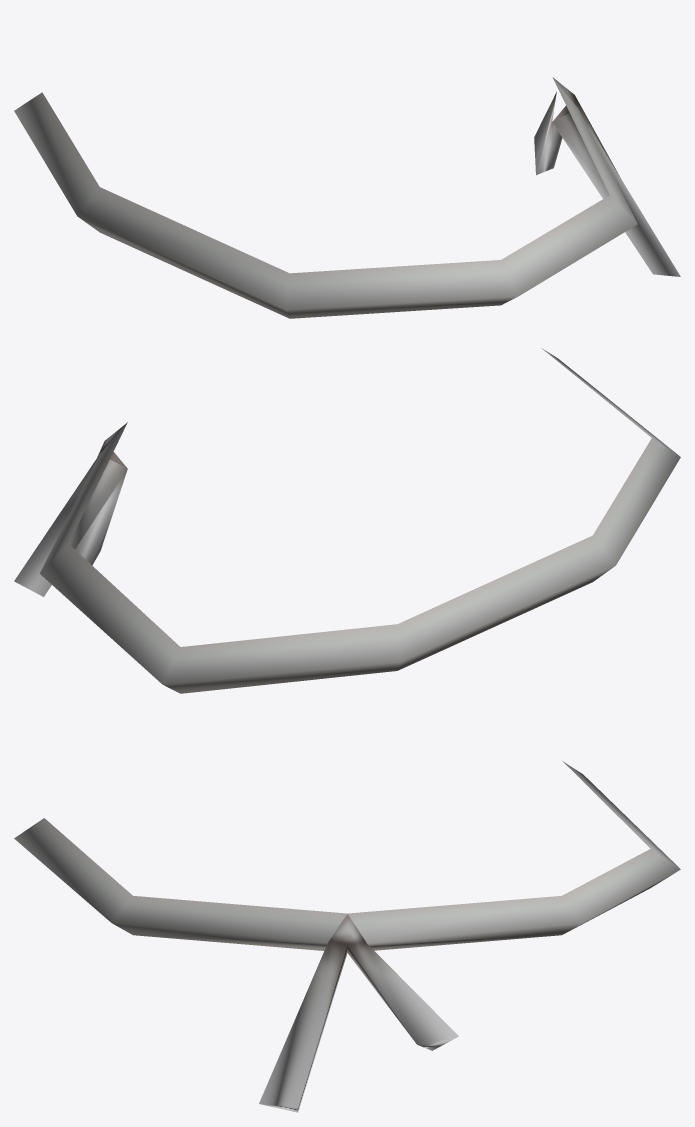
File: holyThread.glb
The picture shows the model from 3 angles, top to bottom: view 1: azimuth 30°, elevation 25°; view 2: azimuth 150°, elevation 25°; view 3: azimuth 270°, elevation 25°; orthographic projection. The views are drawn at different scales.
Parts seen in each view (by area): view 1: holyThread; view 2: holyThread; view 3: holyThread.
Boxes of the visible parts, x1,y1,x2,y2 form: holyThread: (14,77,680,318); holyThread: (14,348,680,693); holyThread: (14,761,680,1112).
Size of the model in its own units: 0.0493 by 0.0164 by 0.0587.
1 material, 1 textured.
